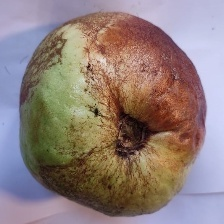guava: (27, 50, 217, 193)
